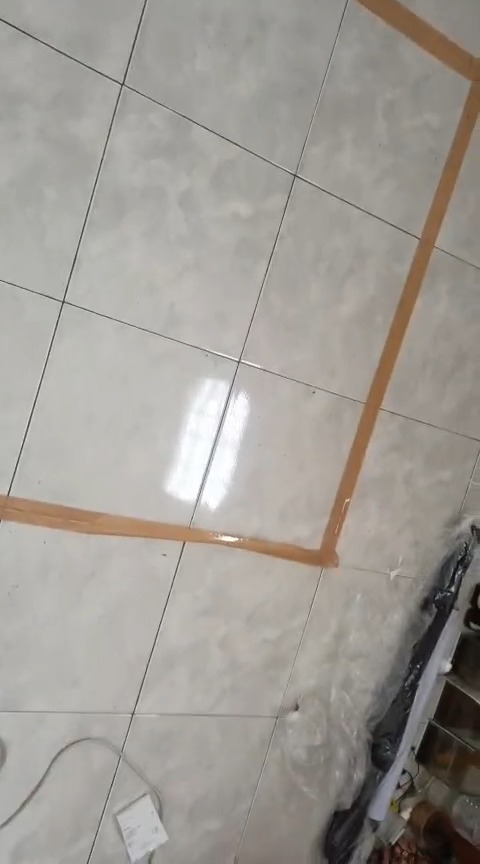floor marking: (0, 0, 479, 568)
